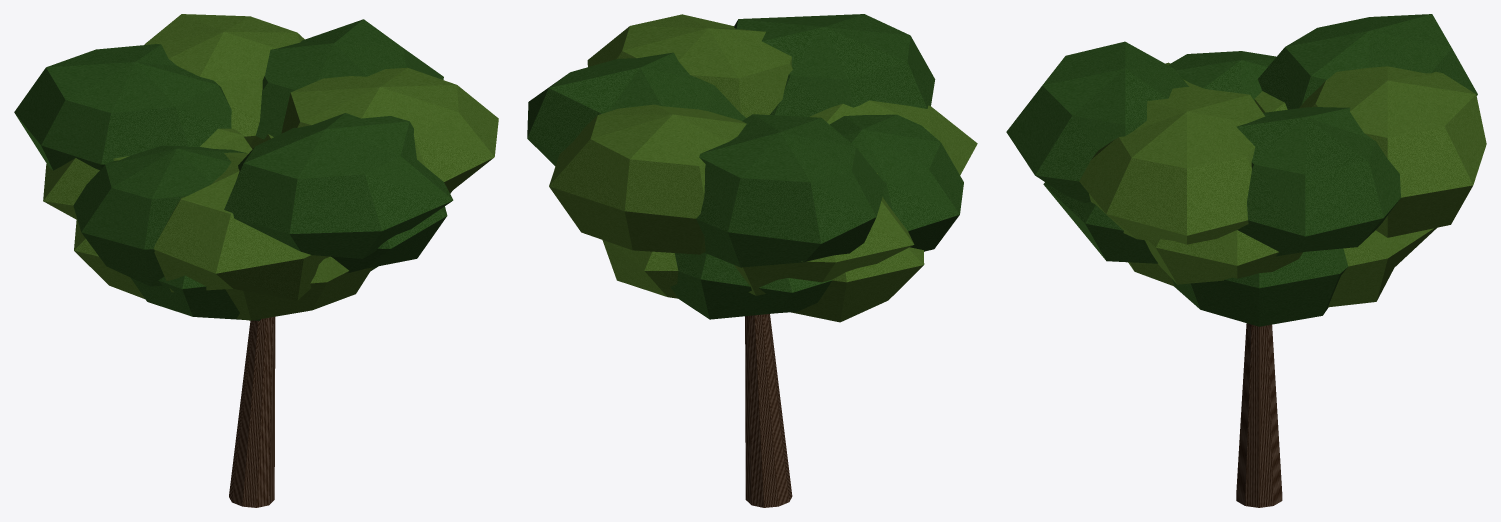
Rendered from tree_oak_01.fbx.
The picture shows the model from 3 angles, left to right: view 1: azimuth 30°, elevation 25°; view 2: azimuth 150°, elevation 25°; view 3: azimuth 270°, elevation 25°; orthographic projection. The views are drawn at different scales.
Visible parts, largest first — view 1: tree_oak_01_LOD0; view 2: tree_oak_01_LOD0; view 3: tree_oak_01_LOD0.
Boxes of the visible parts, x1=… form: tree_oak_01_LOD0: x1=14, y1=14, x2=498, y2=507; tree_oak_01_LOD0: x1=527, y1=14, x2=977, y2=507; tree_oak_01_LOD0: x1=1006, y1=14, x2=1486, y2=507.
Size of what is drawn, in the model's own units: 0.994 by 1 by 1.
